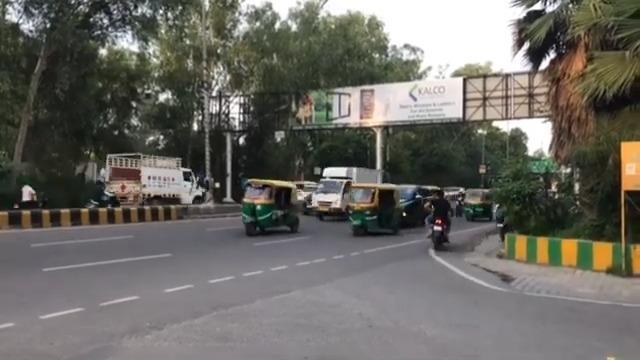Auto: (240, 177, 300, 236)
Truck: (104, 150, 206, 205), (310, 166, 386, 221)
